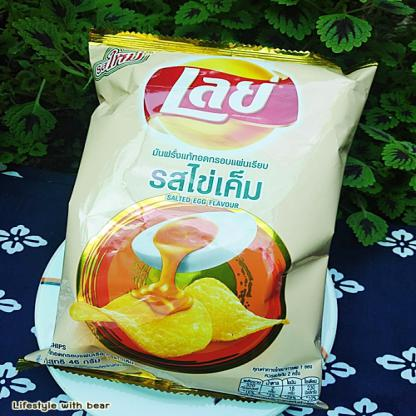potatochip: (23, 33, 385, 413)
